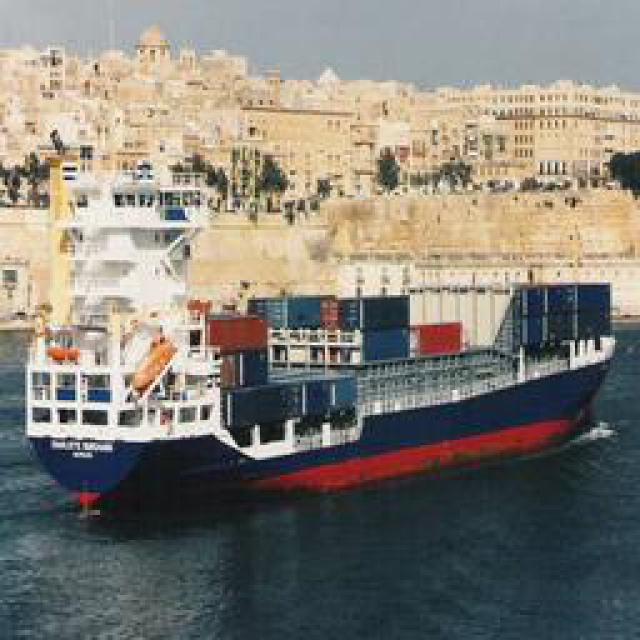Ship: (24, 241, 619, 521)
